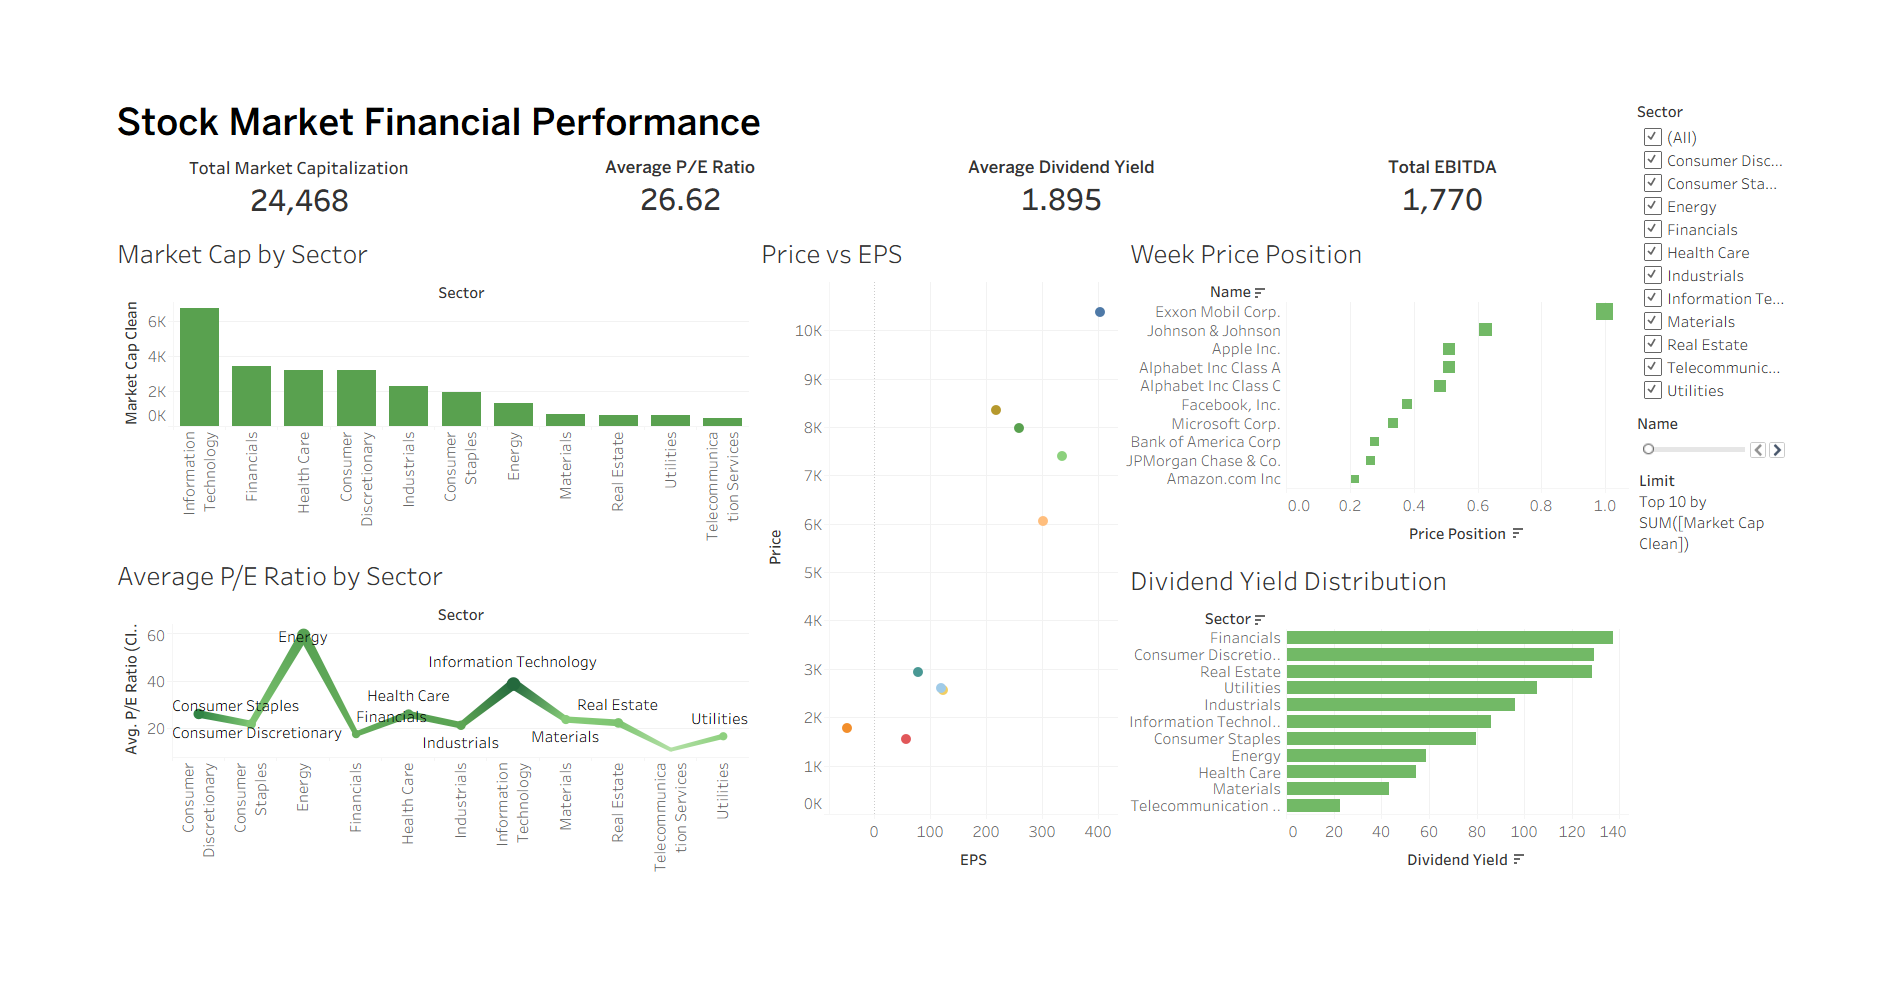

This screenshot's page, from the dashboard's own definition file:
{"tool":"tableau","page":{"name":"Dashboard 1","canvas":[1000,1000],"units":"permille","ordinal":0},"visuals":[{"type":"text","box":[4.9,10.2,892.7,63.6]},{"type":"filter","title":"Market Cap by Sector (Bar)","param":"[federated.00h7bsz0sm0qiq10vz16h0mauffv].[none:Sector:nk]","box":[897.6,10.2,97.5,397.4]},{"type":"worksheet","title":"Total market capitalization","mark":"Automatic","box":[4.9,73.8,223.1,100.6]},{"type":"worksheet","title":"Average Earnings per Share","mark":"Automatic","box":[227.9,73.8,223.1,100.6]},{"type":"worksheet","title":"Average Dividend Yield","mark":"Automatic","box":[451,73.8,223.3,100.6]},{"type":"worksheet","title":"Total EBITDA","mark":"Automatic","box":[674.2,73.8,223.4,100.6]},{"type":"worksheet","title":"Price vs EPS","mark":"Circle","rows":["Price"],"cols":["EPS"],"box":[397.3,174.4,224.9,815.4]},{"type":"worksheet","title":"Market Cap by Sector (Bar)","mark":"Bar","rows":["Calculation_0285909043830789"],"cols":["Sector"],"box":[4.9,174.5,392.4,410.2]},{"type":"worksheet","title":"Week Price Position","mark":"Square","rows":["Name"],"cols":["Calculation_0285909040906241"],"box":[622.2,174.5,275.4,407.7]},{"type":"filter","title":"Week Price Position","param":"[federated.00h7bsz0sm0qiq10vz16h0mauffv].[none:Name:nk]","box":[897.6,407.6,97.5,194.9]},{"type":"worksheet","title":"Dividend Yield Distribution","mark":"Automatic","rows":["Sector"],"cols":["Dividend Yield"],"box":[622.2,582.2,275.4,407.6]},{"type":"worksheet","title":"Average P/E Ratio by Sector","mark":"Line","rows":["Calculation_0285909044150279"],"cols":["Sector"],"box":[4.9,584.7,392.4,405.1]}]}

Visuals, with their boxes on the dashboard's canvas, which has no fixed pixel size, in thousandths of its width and height (x1, y1, x2, y2). These are canvas units, not pixel positions in the 1902x982 screenshot, which may show the page scaled, cropped or inside an application window:
text: {"left": 5, "top": 10, "right": 898, "bottom": 74}
"Market Cap by Sector (Bar)" filter: {"left": 898, "top": 10, "right": 995, "bottom": 408}
"Total market capitalization" worksheet: {"left": 5, "top": 74, "right": 228, "bottom": 174}
"Average Earnings per Share" worksheet: {"left": 228, "top": 74, "right": 451, "bottom": 174}
"Average Dividend Yield" worksheet: {"left": 451, "top": 74, "right": 674, "bottom": 174}
"Total EBITDA" worksheet: {"left": 674, "top": 74, "right": 898, "bottom": 174}
"Price vs EPS" worksheet (Circle marks): {"left": 397, "top": 174, "right": 622, "bottom": 990}
"Market Cap by Sector (Bar)" worksheet (Bar marks): {"left": 5, "top": 174, "right": 397, "bottom": 585}
"Week Price Position" worksheet (Square marks): {"left": 622, "top": 174, "right": 898, "bottom": 582}
"Week Price Position" filter: {"left": 898, "top": 408, "right": 995, "bottom": 602}
"Dividend Yield Distribution" worksheet: {"left": 622, "top": 582, "right": 898, "bottom": 990}
"Average P/E Ratio by Sector" worksheet (Line marks): {"left": 5, "top": 585, "right": 397, "bottom": 990}
